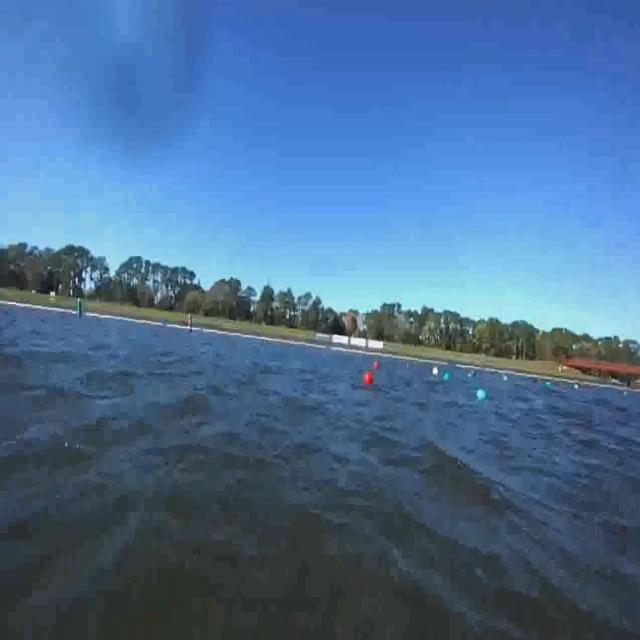green-buoy: (475, 386, 487, 407), (442, 371, 450, 383), (545, 382, 553, 390)
red-buoy: (363, 372, 374, 388), (373, 360, 379, 373)
yellow-buoy: (429, 365, 439, 379)
